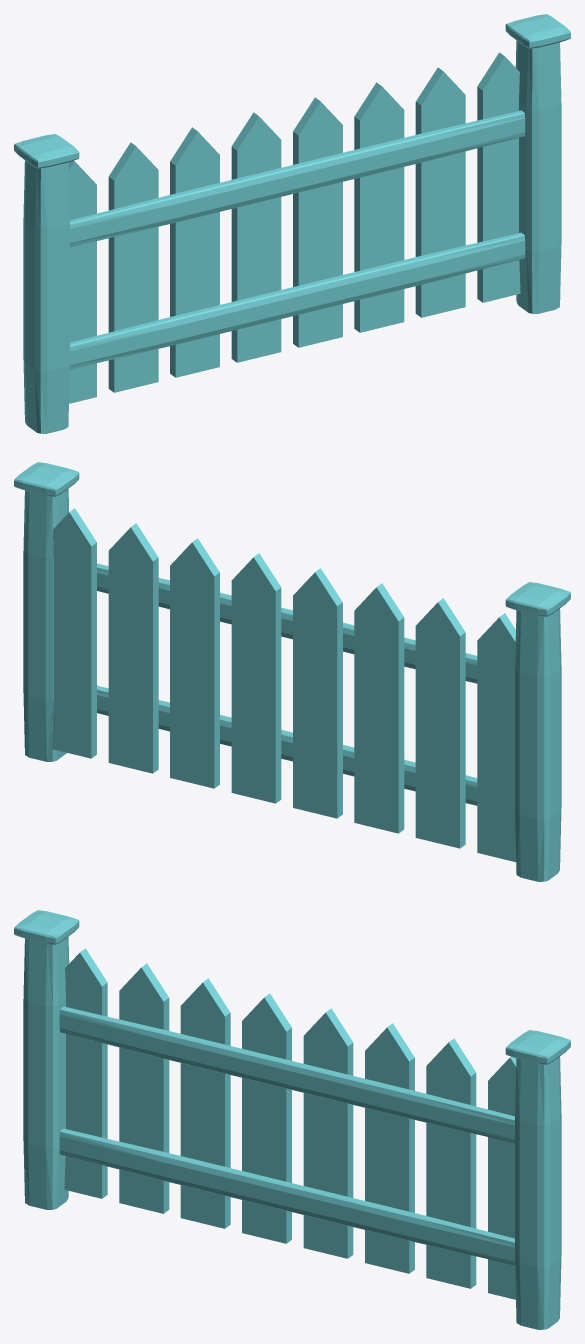
Rendered from PrimeCutFence.glb.
3 renders of one model, top to bottom at view 1: azimuth 30°, elevation 25°; view 2: azimuth 150°, elevation 25°; view 3: azimuth 330°, elevation 25°, orthographic.
Visible parts, largest first — view 1: Paint; view 2: Paint; view 3: Paint.
Part boxes in pixels (bbox=[...]): Paint: bbox=[14, 14, 570, 433]; Paint: bbox=[14, 462, 570, 881]; Paint: bbox=[14, 910, 570, 1329].
Bounding box in the file's own units: 8.71 × 4.39 × 0.7109.
